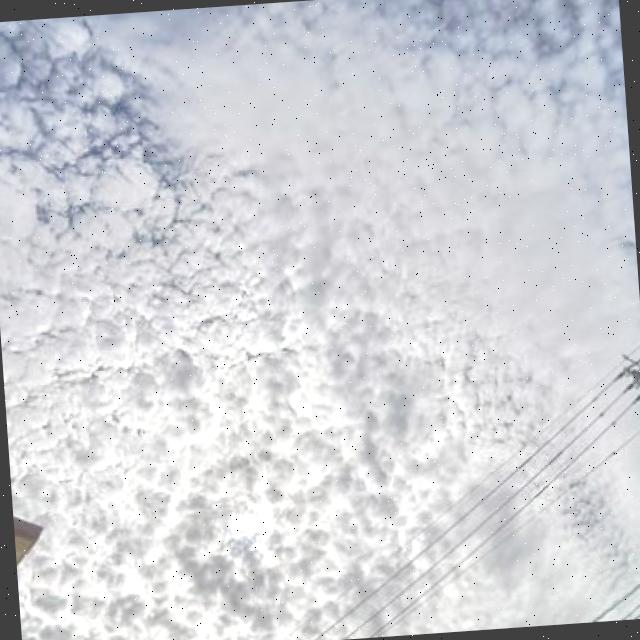Ac: (1, 14, 568, 391)
